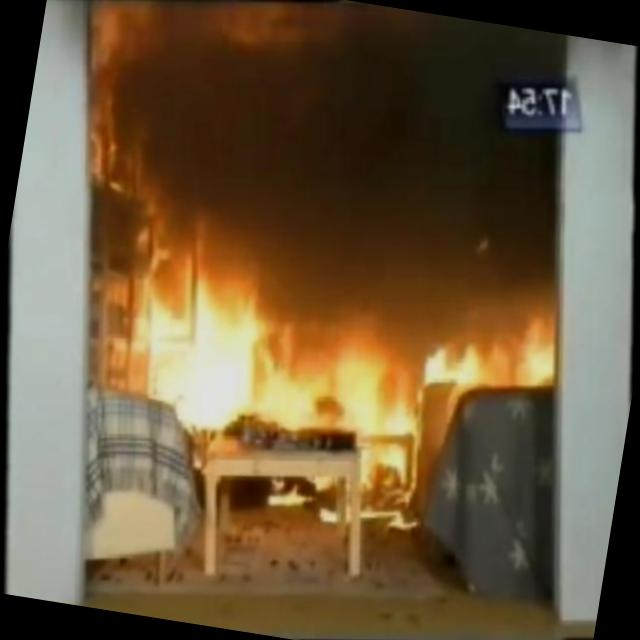fire: (104, 212, 556, 473)
smoke: (57, 0, 598, 358)
